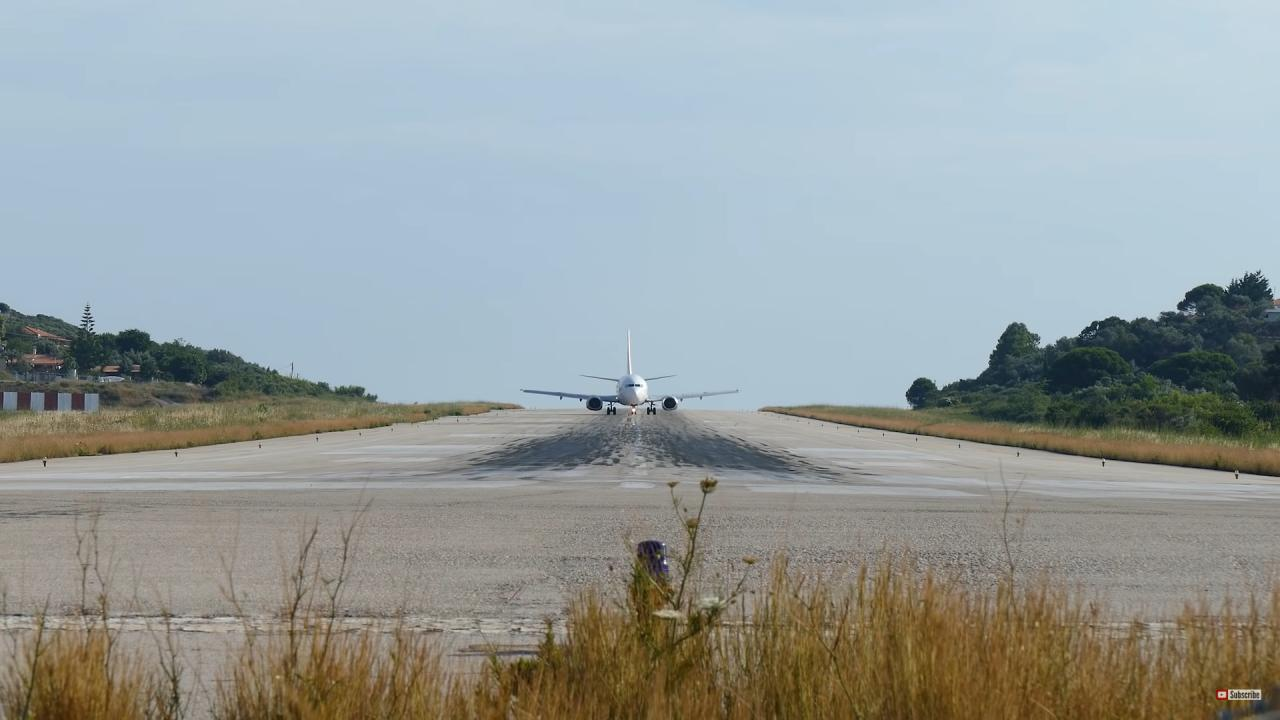Airplane: (511, 317, 750, 424)
